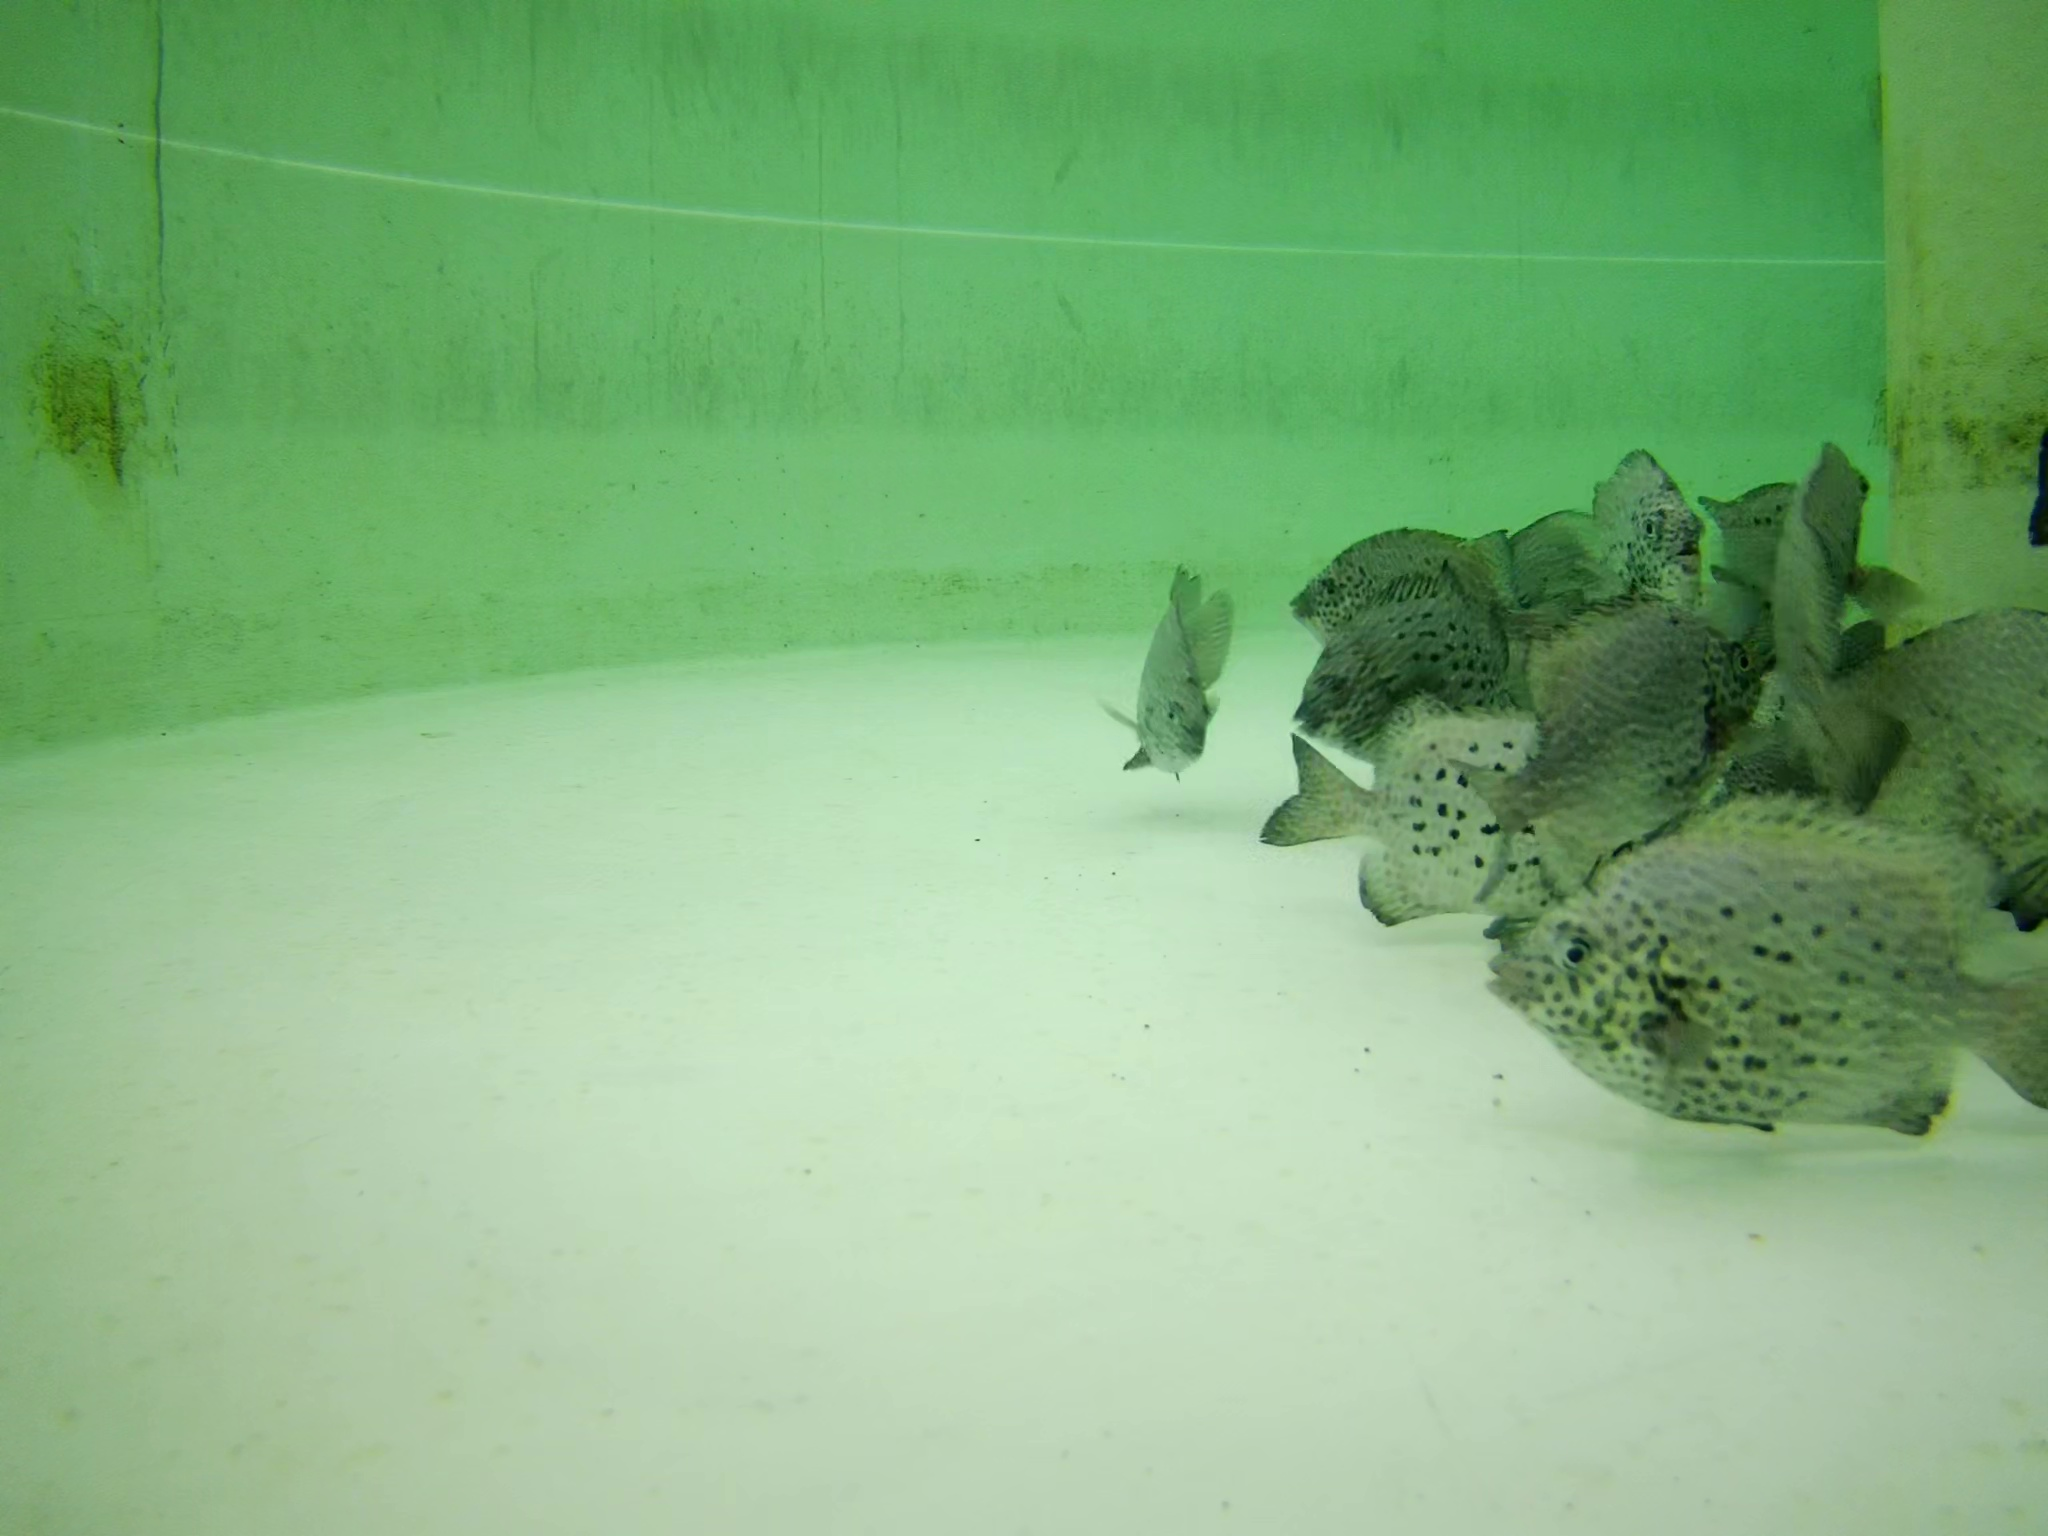fish: (1461, 794, 2048, 1139), (1264, 705, 1642, 916), (1485, 589, 1761, 870), (1848, 599, 2048, 862), (1295, 574, 1506, 747), (1101, 561, 1248, 781), (1297, 520, 1526, 642), (1774, 440, 1871, 678), (1722, 699, 1882, 824), (1592, 437, 1701, 602), (1693, 473, 1800, 576)
